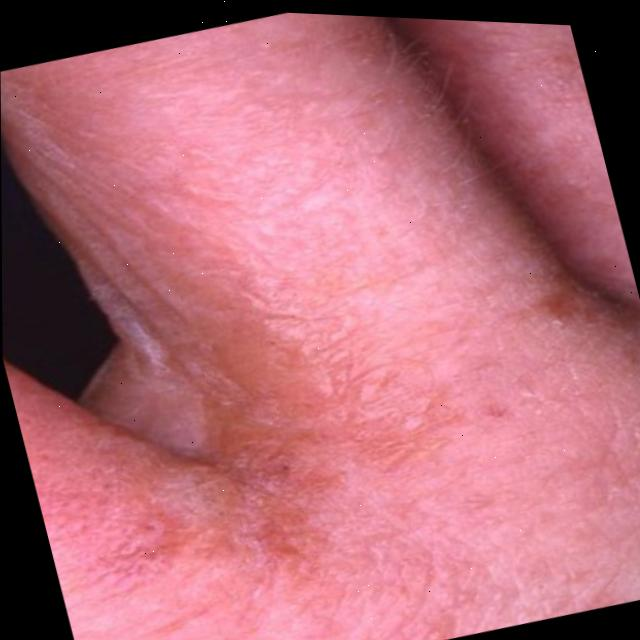Eczema: (46, 287, 521, 640)
